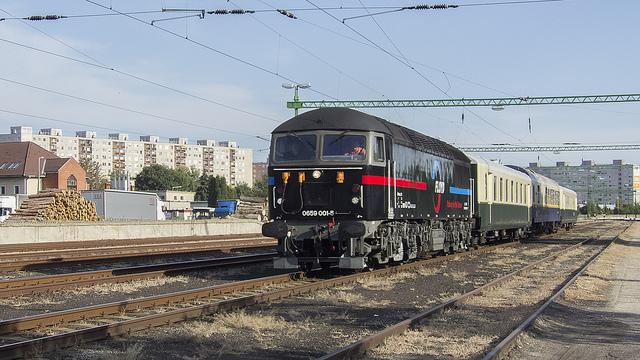Train: (258, 107, 584, 273)
